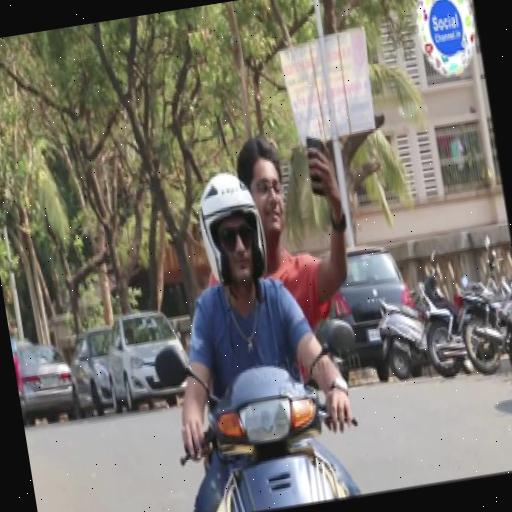helmet: (134, 137, 367, 512)
